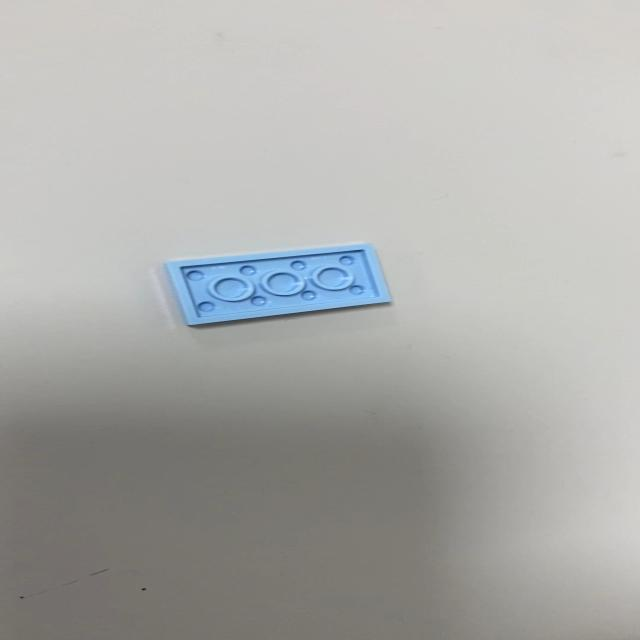C4x2x0: (160, 241, 391, 326)
